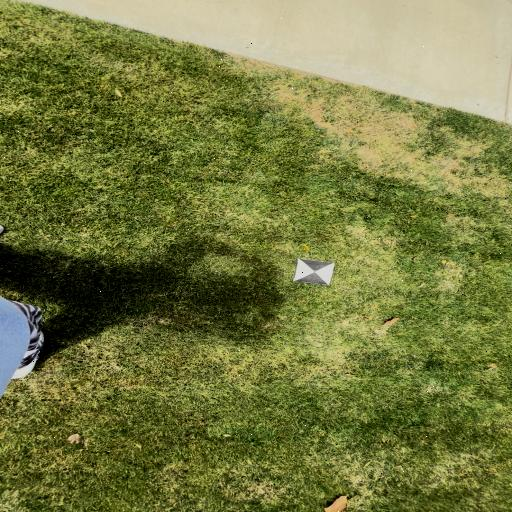target: (293, 259, 334, 284)
